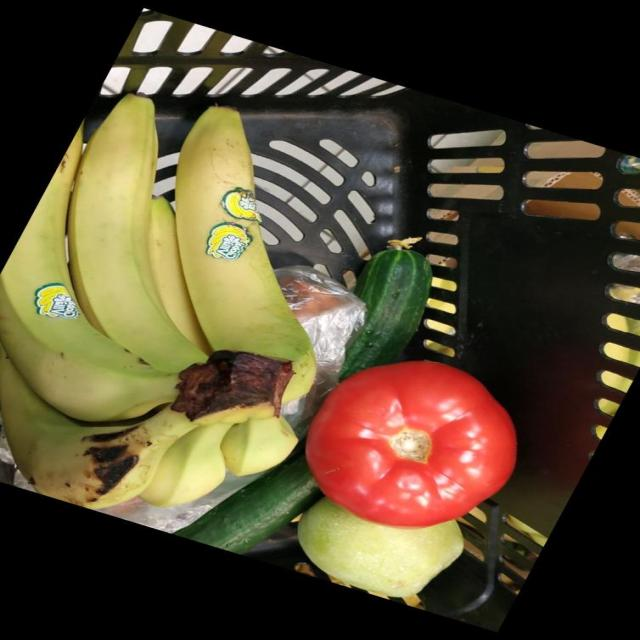apple: (230, 261, 640, 640)
banana: (158, 194, 467, 551), (153, 207, 403, 625), (122, 214, 340, 636), (93, 179, 244, 460), (96, 171, 269, 385), (24, 205, 108, 626), (3, 229, 41, 640)
cucumber: (216, 132, 635, 385), (149, 223, 335, 640)
tomato: (262, 220, 640, 625)
